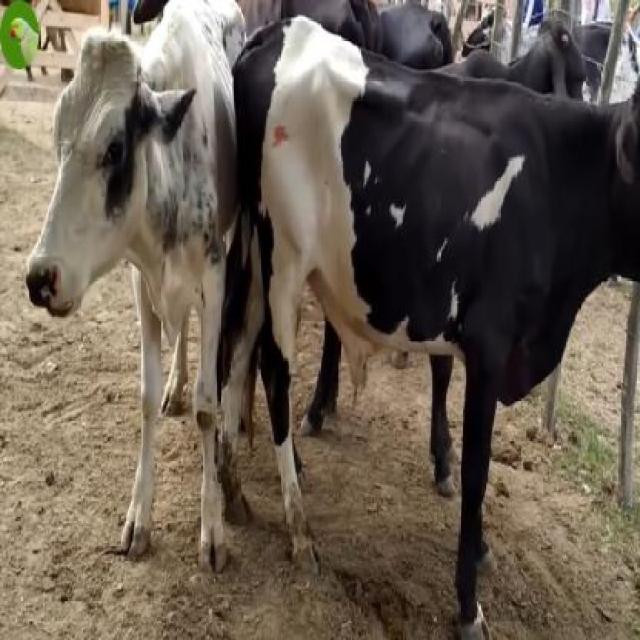Cow: (28, 0, 246, 566)
